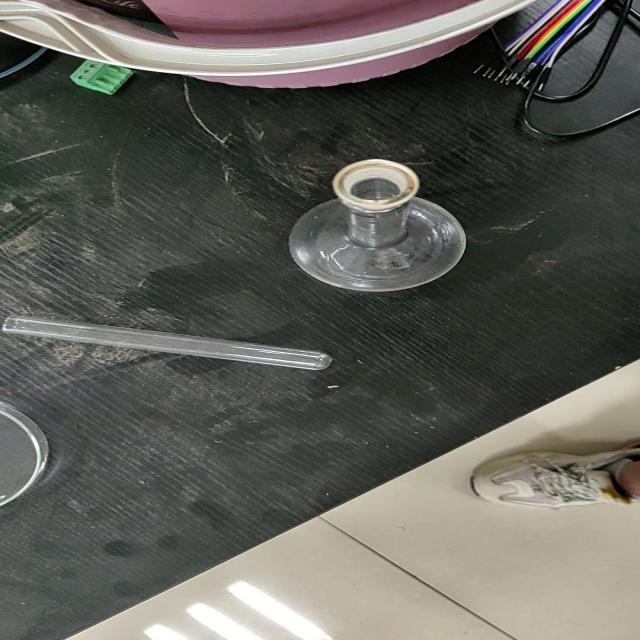cups: (287, 157, 466, 292)
organic-waste: (469, 438, 639, 509)
